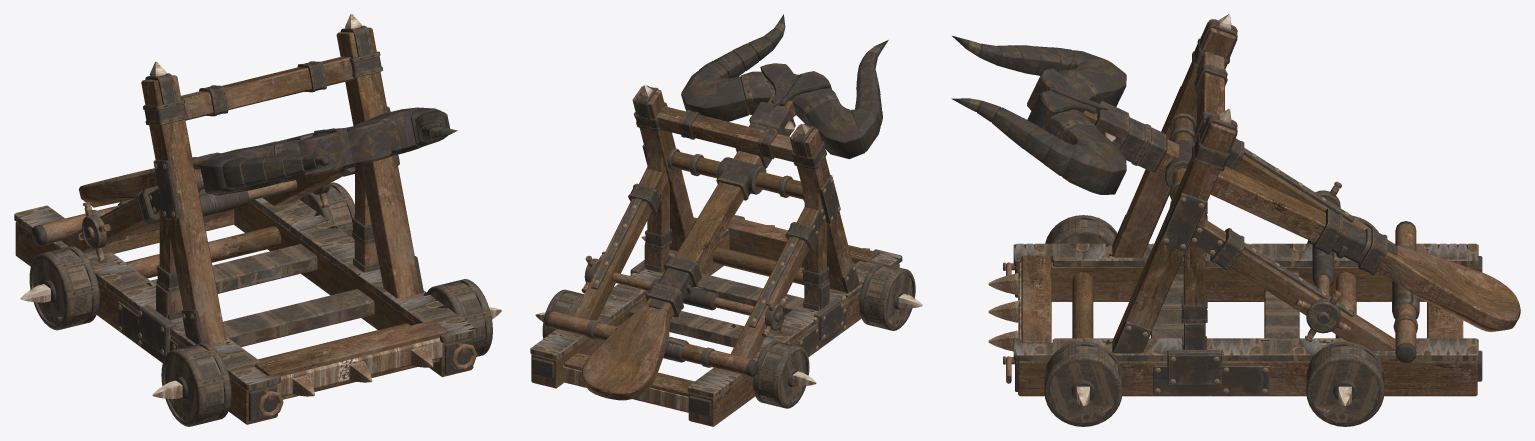
3 views of the same model, side by side, from view 1: azimuth 30°, elevation 25°; view 2: azimuth 150°, elevation 25°; view 3: azimuth 270°, elevation 25° (orthographic). The views are drawn at different scales.
Parts seen in each view (by area): view 1: SM_SiegeWeaponary_Catapult_01_V1_LOD0; view 2: SM_SiegeWeaponary_Catapult_01_V1_LOD0; view 3: SM_SiegeWeaponary_Catapult_01_V1_LOD0.
Part boxes in pixels (<box>): SM_SiegeWeaponary_Catapult_01_V1_LOD0: <box>14,14,501,426</box>; SM_SiegeWeaponary_Catapult_01_V1_LOD0: <box>530,14,922,426</box>; SM_SiegeWeaponary_Catapult_01_V1_LOD0: <box>951,14,1520,426</box>.
Size of the model in its own units: 6.06 by 4.94 by 8.65.
Materials: 4 (4 with a texture image).
